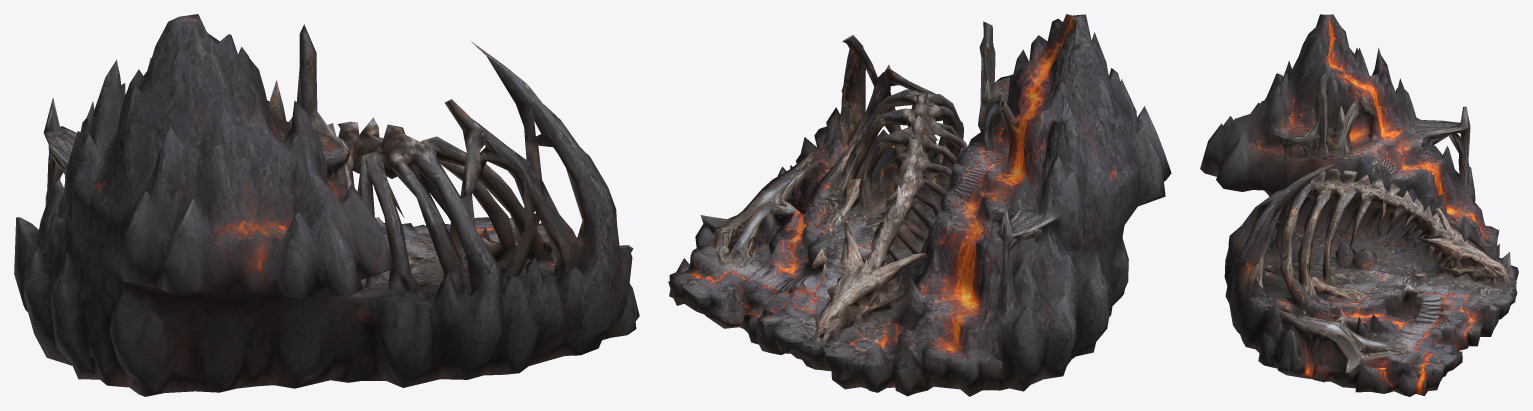
File: env_ro_ribs.glb
3 views of the same model, side by side, from view 1: azimuth 30°, elevation 25°; view 2: azimuth 150°, elevation 25°; view 3: azimuth 270°, elevation 25° (orthographic). The views are drawn at different scales.
Visible parts, largest first — view 1: tripo_node_fdcefa7b-f72f-4f39-a0f8-3aed1b63e215; view 2: tripo_node_fdcefa7b-f72f-4f39-a0f8-3aed1b63e215; view 3: tripo_node_fdcefa7b-f72f-4f39-a0f8-3aed1b63e215.
Part boxes in pixels (bbox=[...]): tripo_node_fdcefa7b-f72f-4f39-a0f8-3aed1b63e215: bbox=[14, 14, 639, 396]; tripo_node_fdcefa7b-f72f-4f39-a0f8-3aed1b63e215: bbox=[668, 14, 1171, 396]; tripo_node_fdcefa7b-f72f-4f39-a0f8-3aed1b63e215: bbox=[1200, 14, 1518, 396].
Bounding box in the file's own units: 1 × 0.7039 × 0.8145.
1 material, 1 textured.
